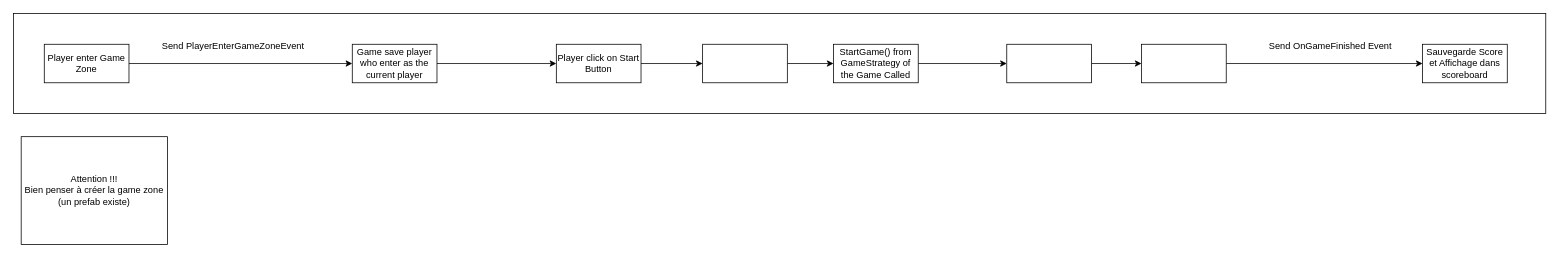
The diagram is 1559 pixels wide and 258 high, and some of its shapes have lost their labels. The shapes that lost their labels are listed below. From the top down, each one's centre as x and y in pixels, then its label:
point 744,63: StartGame() from Game called
point 1048,63: Déroulement Du Jeu
point 1183,63: Fin du Jeu
